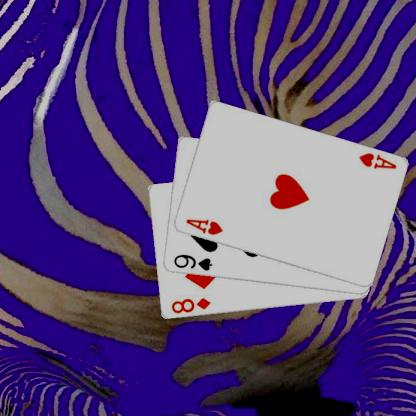8D: (168, 296, 212, 314)
9S: (171, 252, 213, 272)
AH: (182, 216, 224, 237), (356, 150, 397, 171)
